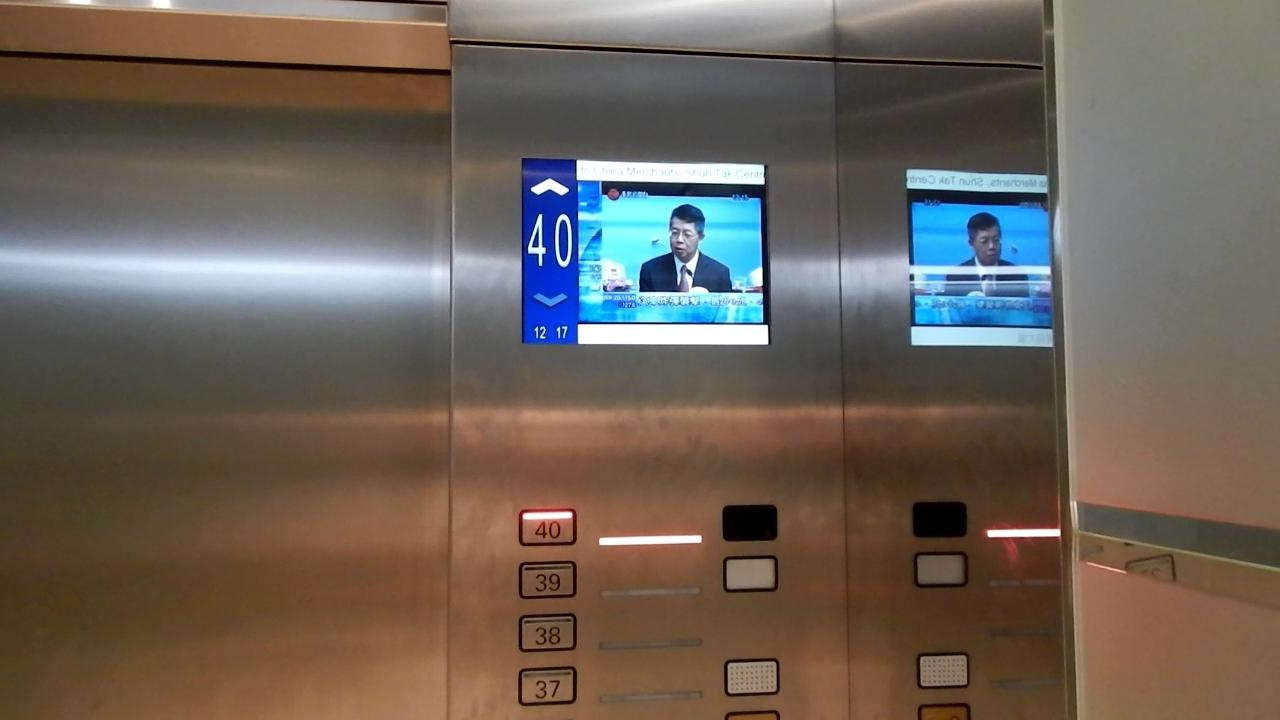37: (517, 666, 578, 707)
38: (518, 613, 577, 652)
39: (518, 561, 577, 599)
40: (518, 508, 577, 547)
empty: (721, 502, 780, 542), (911, 499, 969, 539), (722, 555, 779, 594), (912, 549, 969, 588)
led: (513, 150, 778, 357)
speaker: (723, 656, 781, 697), (916, 650, 971, 689)
